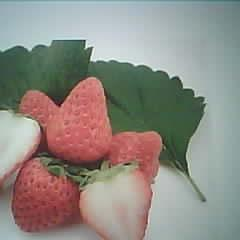straw-ripe: (45, 78, 112, 162), (11, 157, 78, 234)
